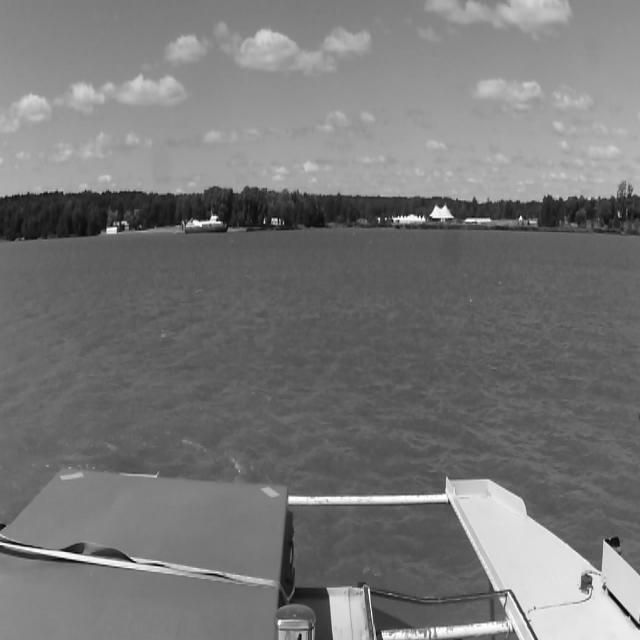ship: (184, 215, 228, 235)
